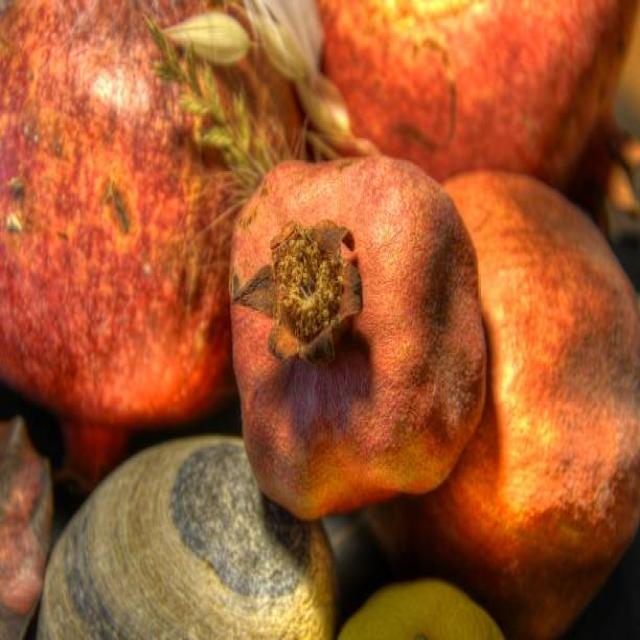overripe: (223, 153, 492, 518)
